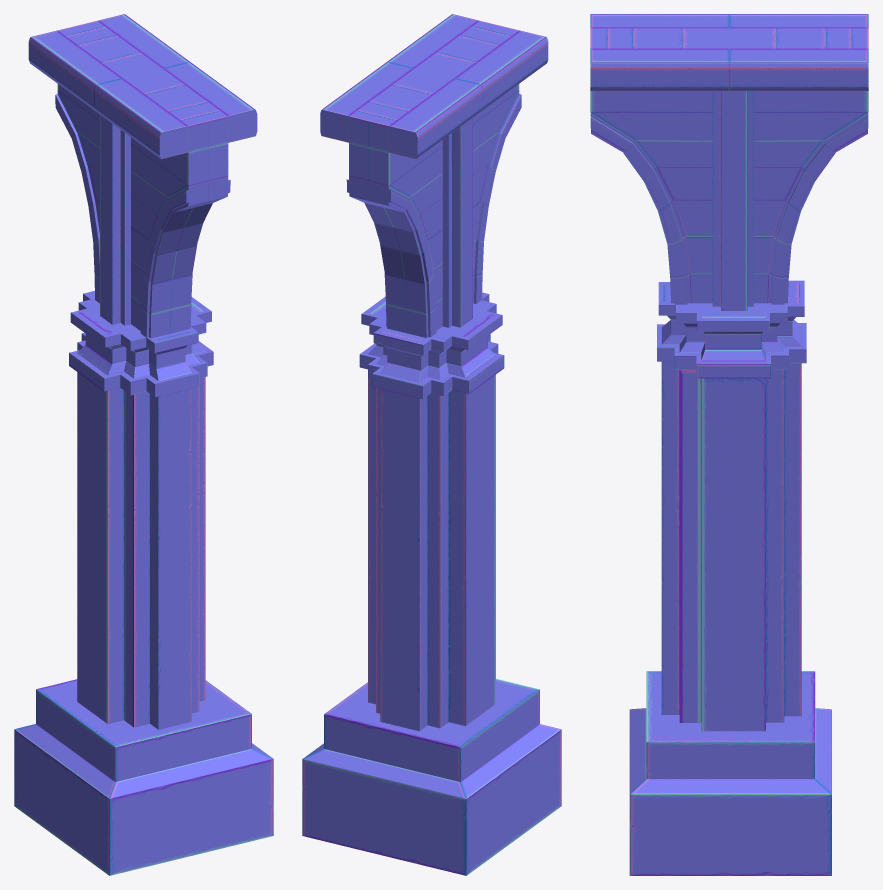
The model's file is AD_ArchPillar_C_01.fbx.
The picture shows the model from 3 angles, left to right: view 1: azimuth 30°, elevation 25°; view 2: azimuth 150°, elevation 25°; view 3: azimuth 270°, elevation 25°; orthographic projection. The views are drawn at different scales.
Visible parts, largest first — view 1: AD_ArchPillar_C_01; view 2: AD_ArchPillar_C_01; view 3: AD_ArchPillar_C_01.
Boxes of the visible parts, x1,y1,x2,y2 form: AD_ArchPillar_C_01: (14, 14, 273, 875); AD_ArchPillar_C_01: (302, 14, 561, 875); AD_ArchPillar_C_01: (590, 14, 868, 875).
Size of the model in its own units: 332 by 1446 by 459.
Materials: 1 (1 with a texture image).
